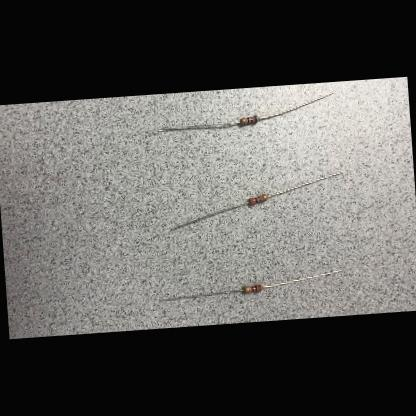resistor: (247, 194, 268, 205), (239, 116, 259, 126), (242, 284, 262, 294)
wire: (168, 202, 249, 232), (266, 171, 344, 197), (258, 93, 332, 120), (261, 270, 341, 287), (160, 289, 242, 302), (158, 121, 240, 132)
